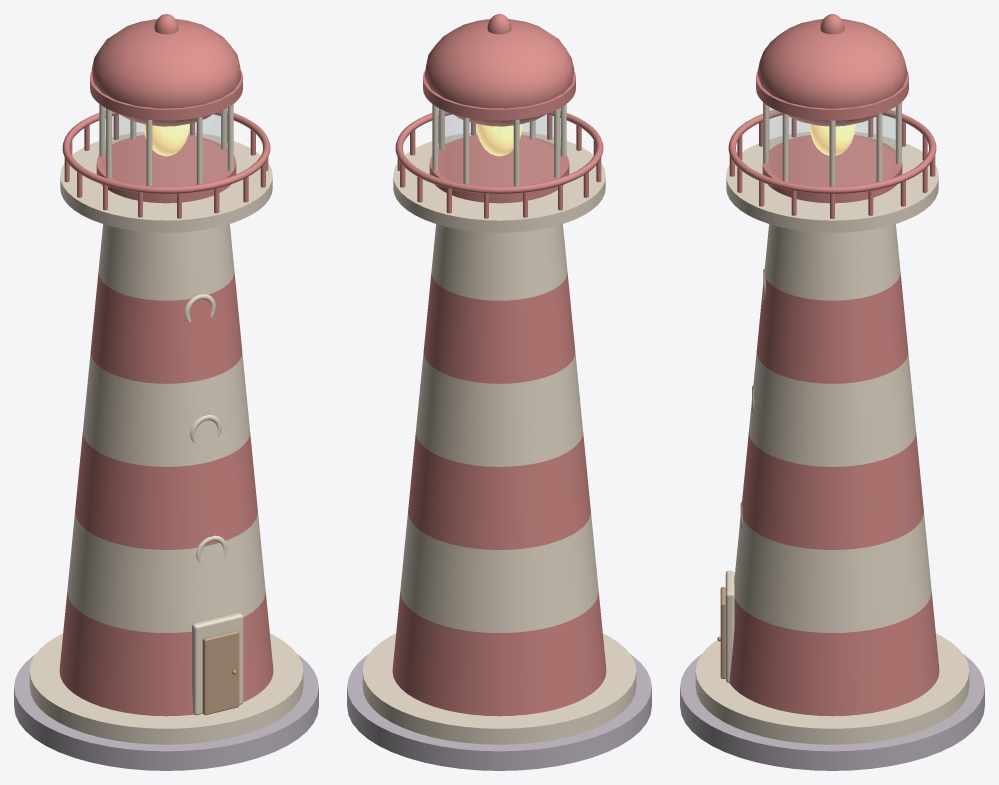
Rendered from lighthouse.glb.
3 views of the same model, side by side, from view 1: azimuth 30°, elevation 25°; view 2: azimuth 150°, elevation 25°; view 3: azimuth 270°, elevation 25° (orthographic).
Visible parts, largest first — view 1: circular moulding (×11), rounded beacon roof, lantern glazing, entry door, rounded rim, arched entry surround, lantern optic; view 2: circular moulding (×11), rounded beacon roof, lantern glazing, rounded rim, lantern optic; view 3: circular moulding (×11), rounded beacon roof, lantern glazing, rounded rim, lantern optic, arched entry surround, entry door.
Boxes of the visible parts, x1,y1,x2,y2 form: circular moulding (×11): (14, 70, 318, 770); rounded beacon roof: (91, 19, 241, 126); lantern glazing: (101, 106, 227, 185); entry door: (202, 630, 239, 715); rounded rim: (62, 110, 270, 193); arched entry surround: (192, 613, 243, 715); lantern optic: (143, 124, 189, 156); circular moulding (×11): (347, 70, 651, 770); rounded beacon roof: (424, 19, 574, 126); lantern glazing: (438, 106, 564, 185); rounded rim: (395, 110, 603, 193); lantern optic: (476, 124, 522, 156); circular moulding (×11): (680, 72, 984, 770); rounded beacon roof: (757, 19, 907, 126); lantern glazing: (768, 107, 896, 185); rounded rim: (728, 109, 936, 193); lantern optic: (809, 124, 855, 155); arched entry surround: (725, 570, 734, 682); entry door: (720, 587, 725, 678).
Size of the model in its own units: 4.5 by 11.27 by 4.5.
